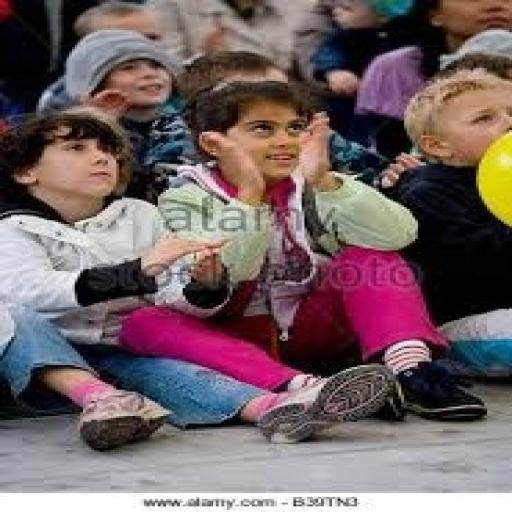clapping: (0, 107, 399, 450), (121, 44, 419, 451)
